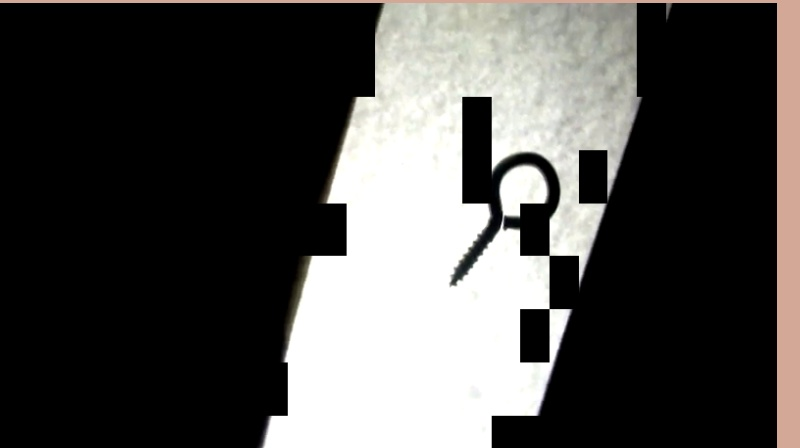O001: (445, 146, 564, 289)
